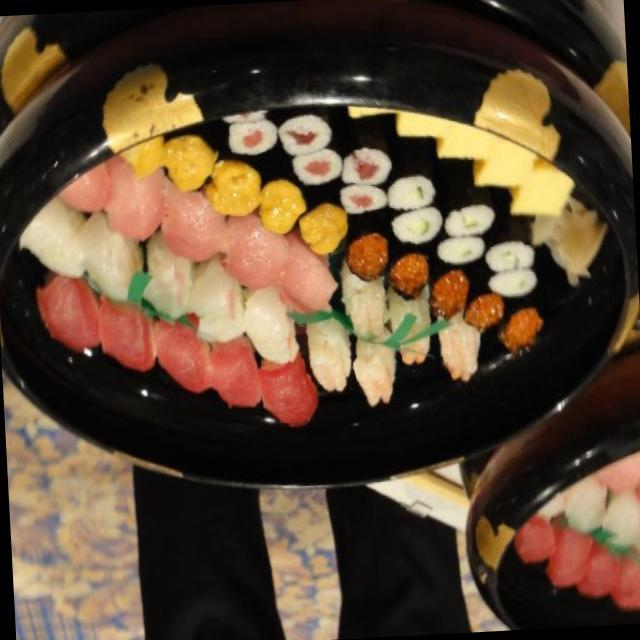Sushi: (66, 88, 556, 472)
